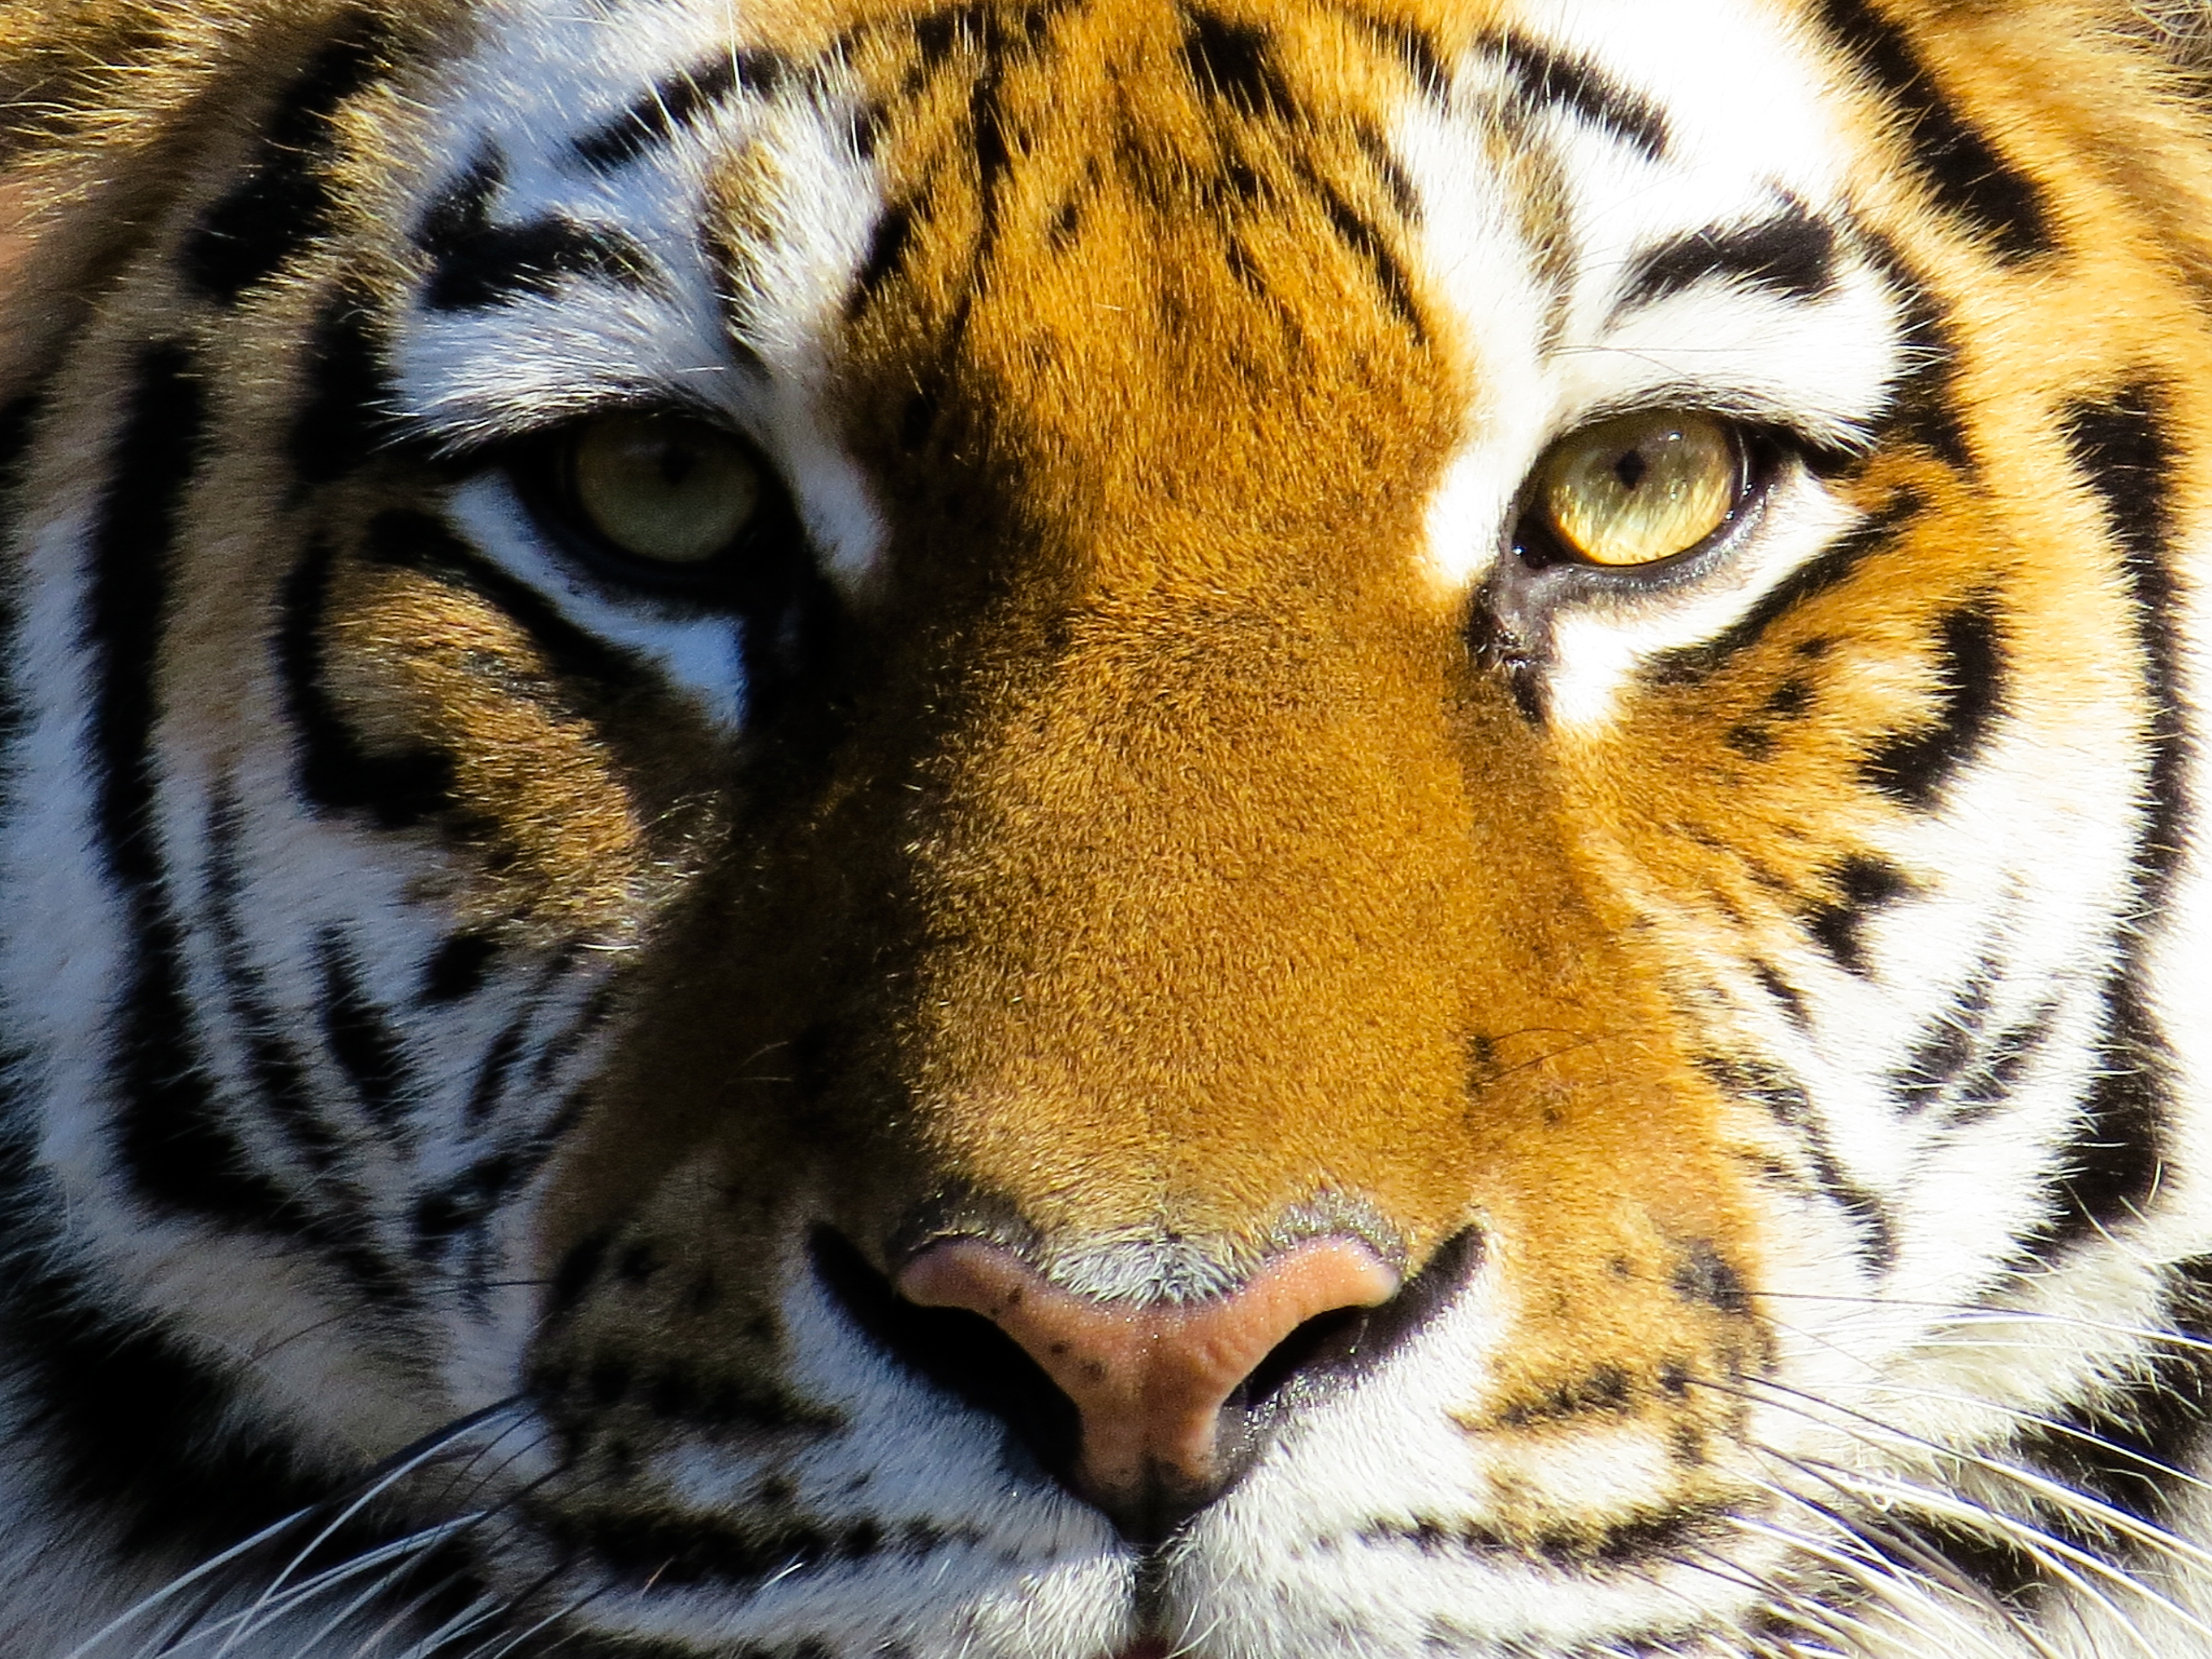tiger: (131, 21, 2160, 1572)
